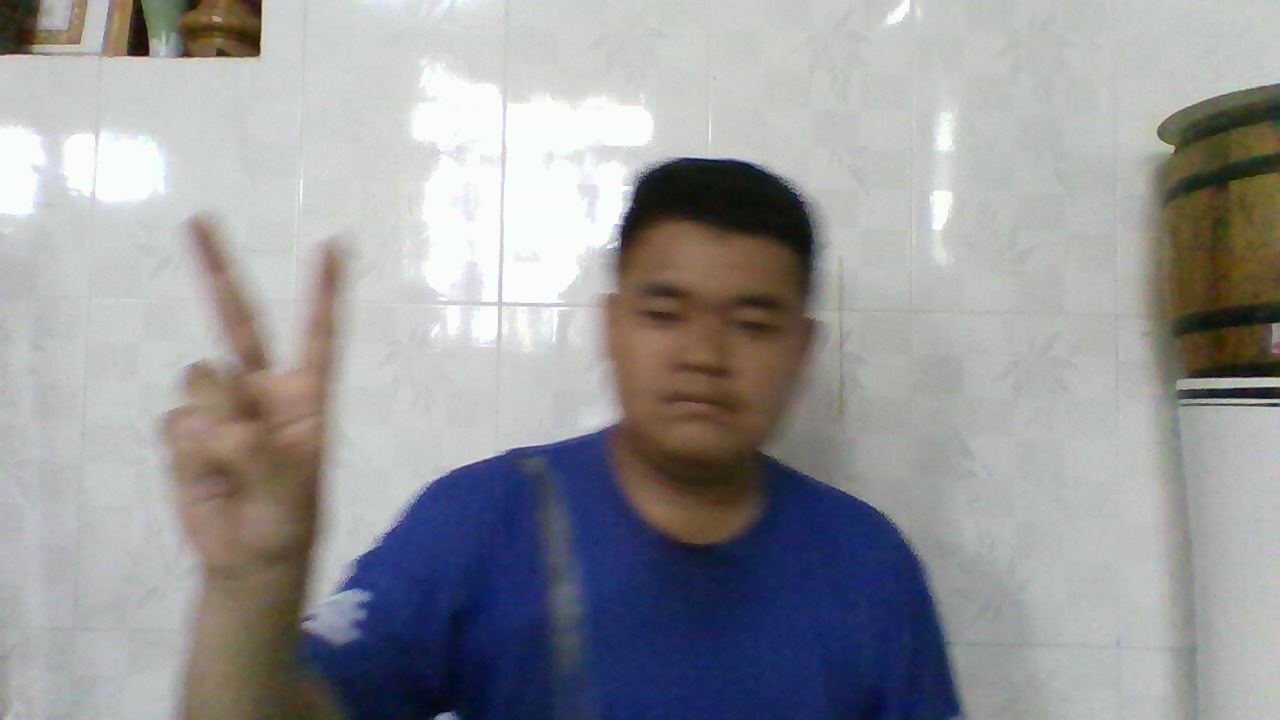V: (166, 215, 342, 577)
